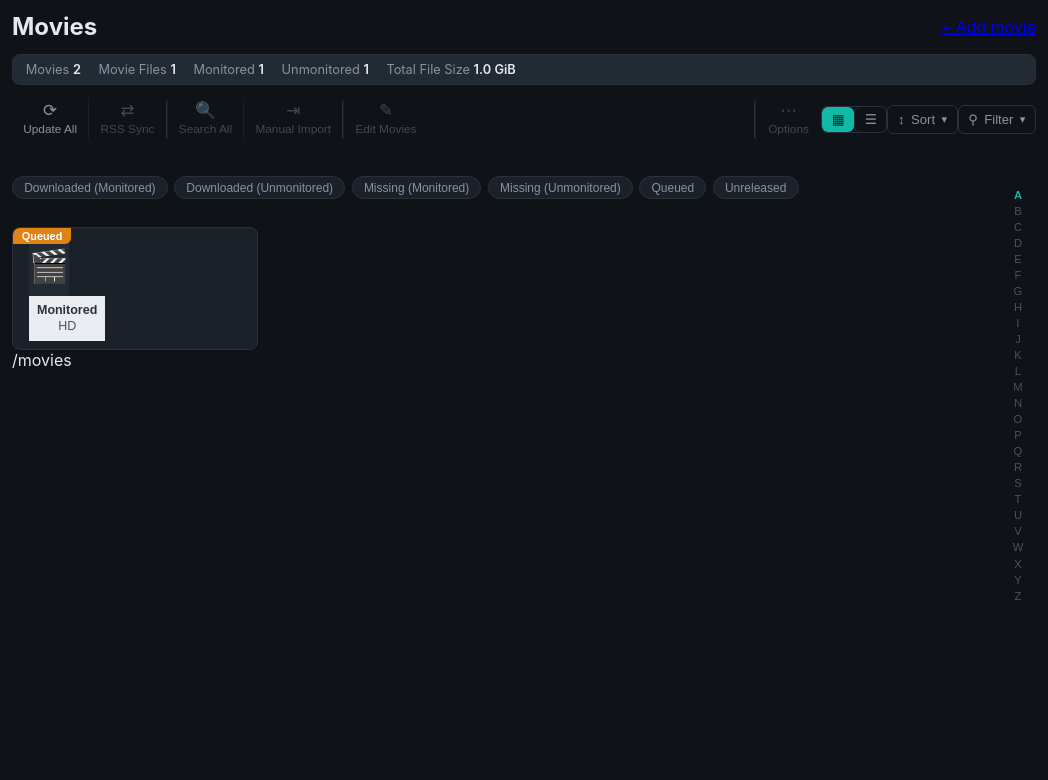
Scenario: MoviesPage › shows a filtered empty state when the chip matches nothing
Expected: the element with test id "movies-grid" is shown, x1=12 y1=227 x2=258 y2=350
Click the button with test id "movies-chip-unreleased": click(756, 188) x1=713 y1=176 x2=799 y2=199
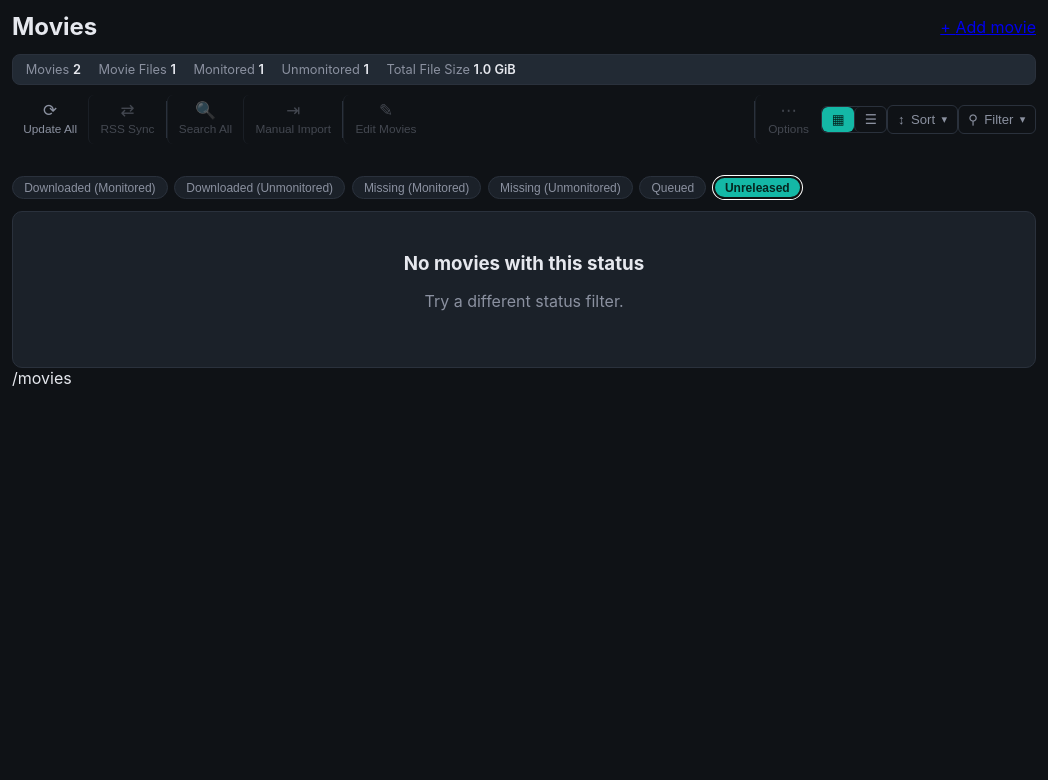
Expected: the heading "No movies with this status" is shown, x1=404 y1=252 x2=644 y2=275
Expected: the element with test id "movies-grid" is gone
